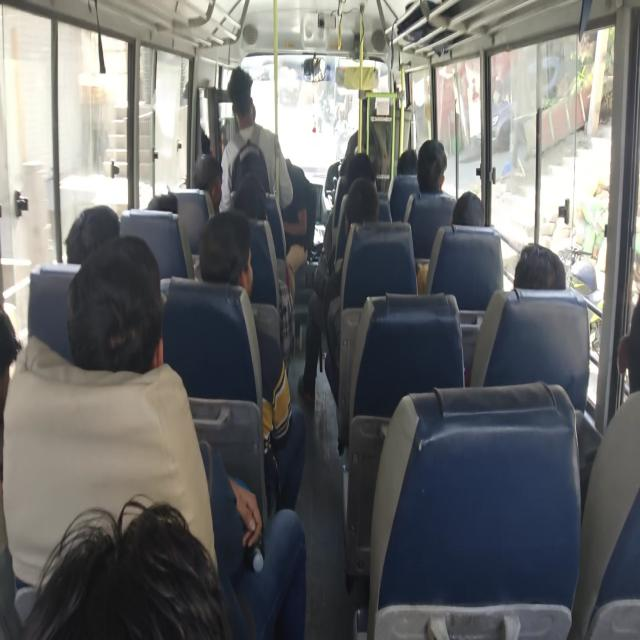person: (60, 489, 258, 640), (88, 245, 172, 392), (514, 233, 600, 335), (204, 204, 254, 276), (346, 185, 401, 244), (279, 153, 309, 256), (615, 294, 640, 393), (197, 144, 233, 203), (152, 174, 188, 225), (0, 303, 15, 416), (227, 63, 254, 116), (424, 136, 448, 189), (76, 211, 114, 244), (469, 192, 496, 238), (235, 176, 266, 214), (346, 150, 378, 184), (402, 140, 426, 178), (240, 155, 266, 188)
